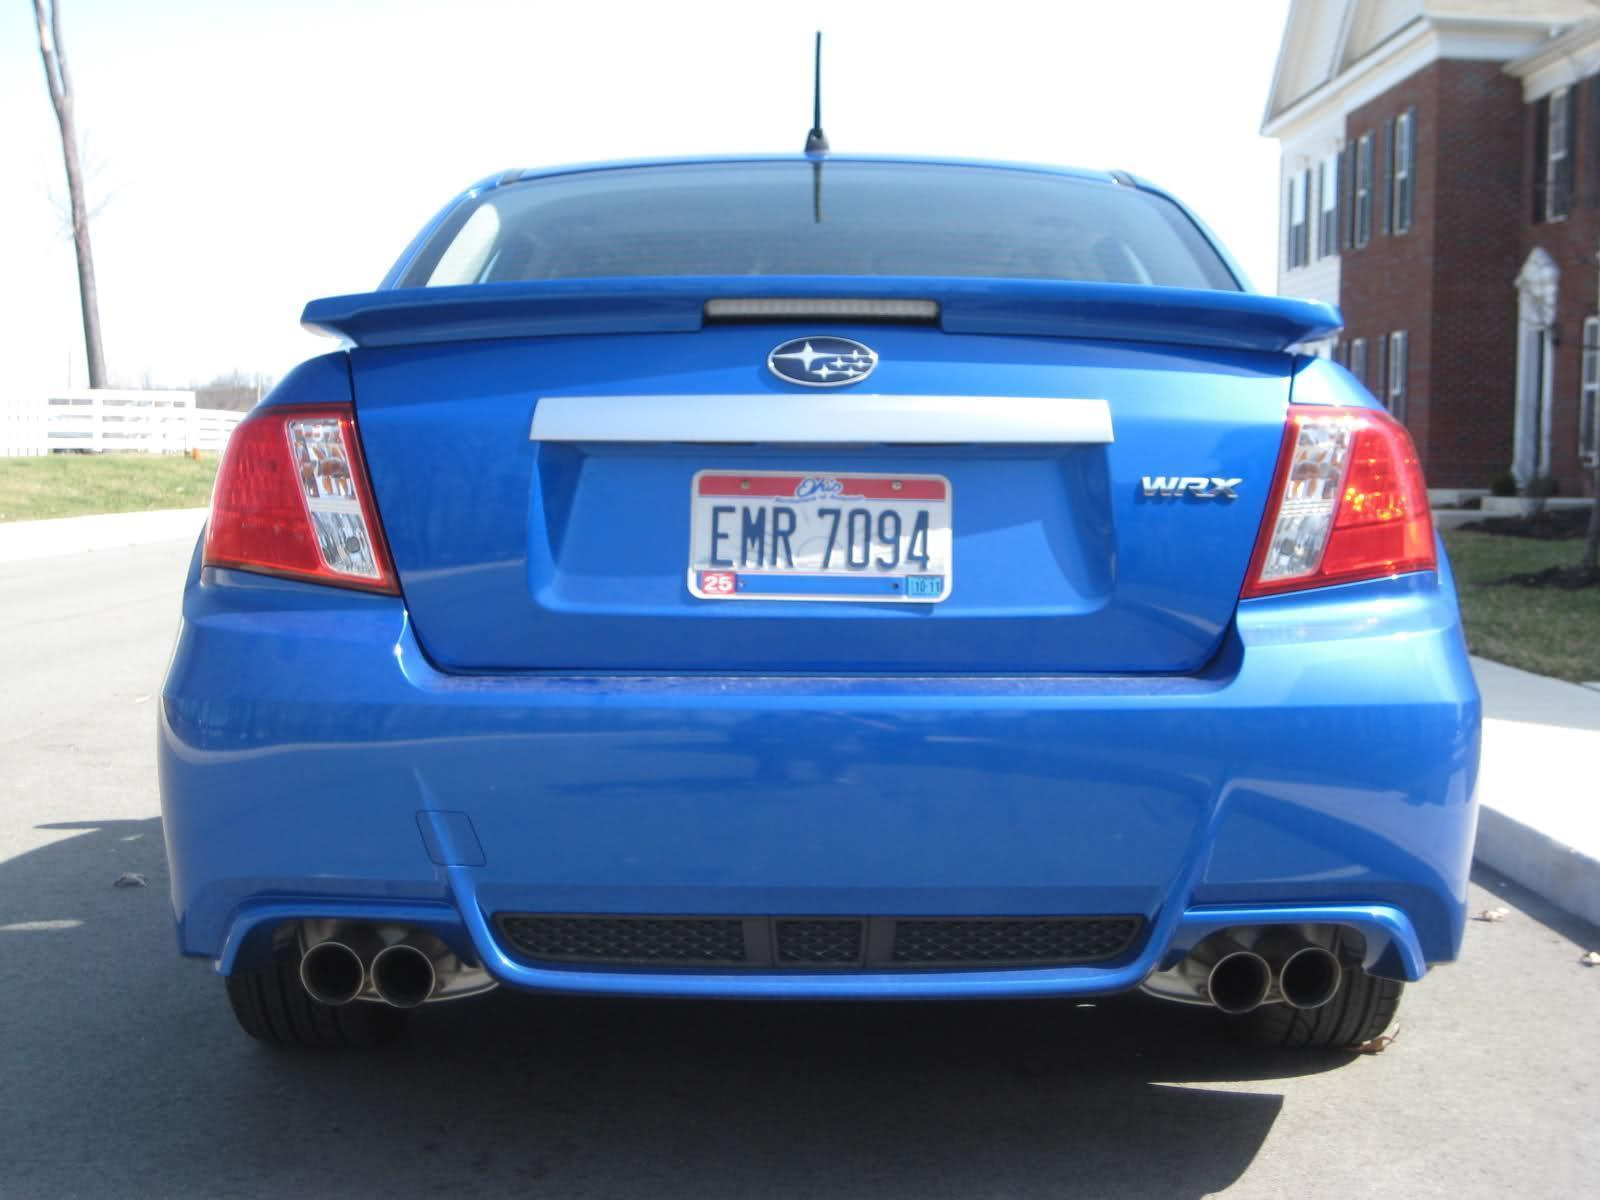placa de veiculo: (637, 442, 992, 660)
